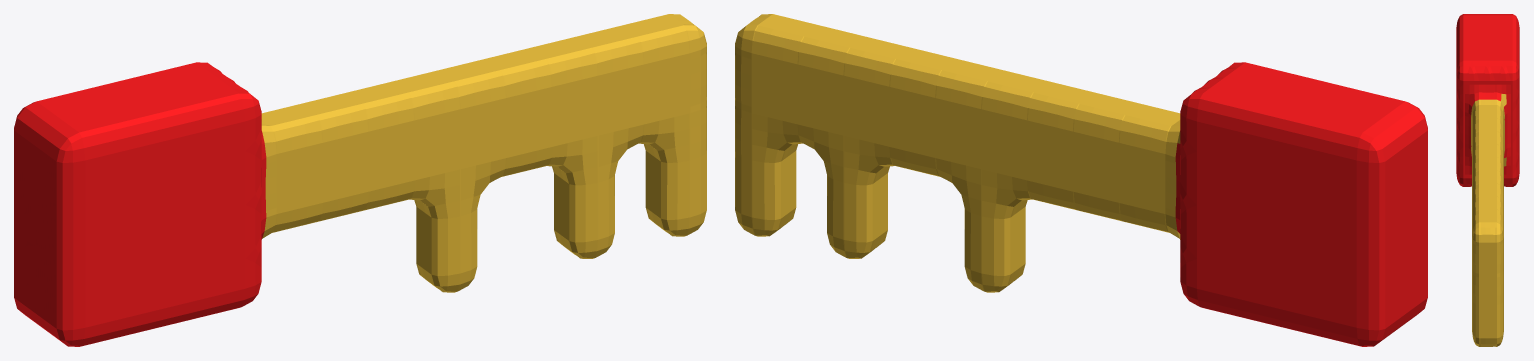
The model's file is RedKey.fbx.
3 renders of one model, left to right at view 1: azimuth 30°, elevation 25°; view 2: azimuth 150°, elevation 25°; view 3: azimuth 270°, elevation 25°, orthographic. The views are drawn at different scales.
Parts seen in each view (by area): view 1: Red Key; view 2: Red Key; view 3: Red Key.
Part boxes in pixels (x1,y1,x2,y2): Red Key: [14, 14, 706, 346]; Red Key: [735, 14, 1427, 346]; Red Key: [1456, 14, 1519, 346].
Bounding box in the file's own units: 278 × 106 × 39.56.
